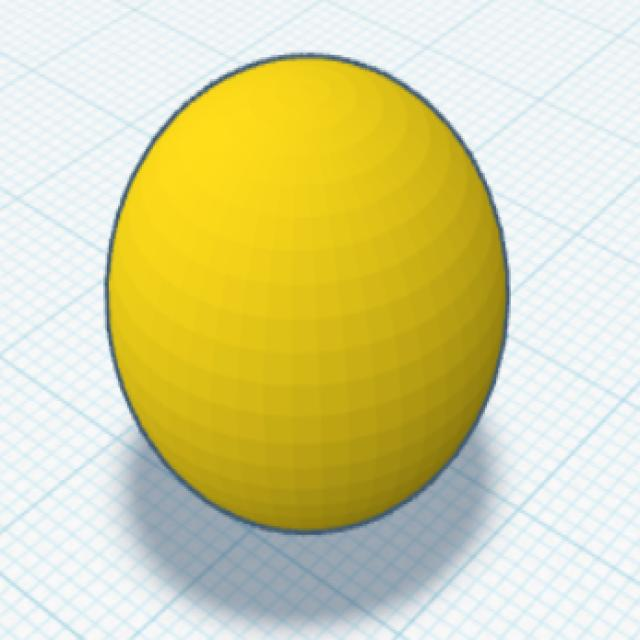sphere: (99, 48, 514, 541)
